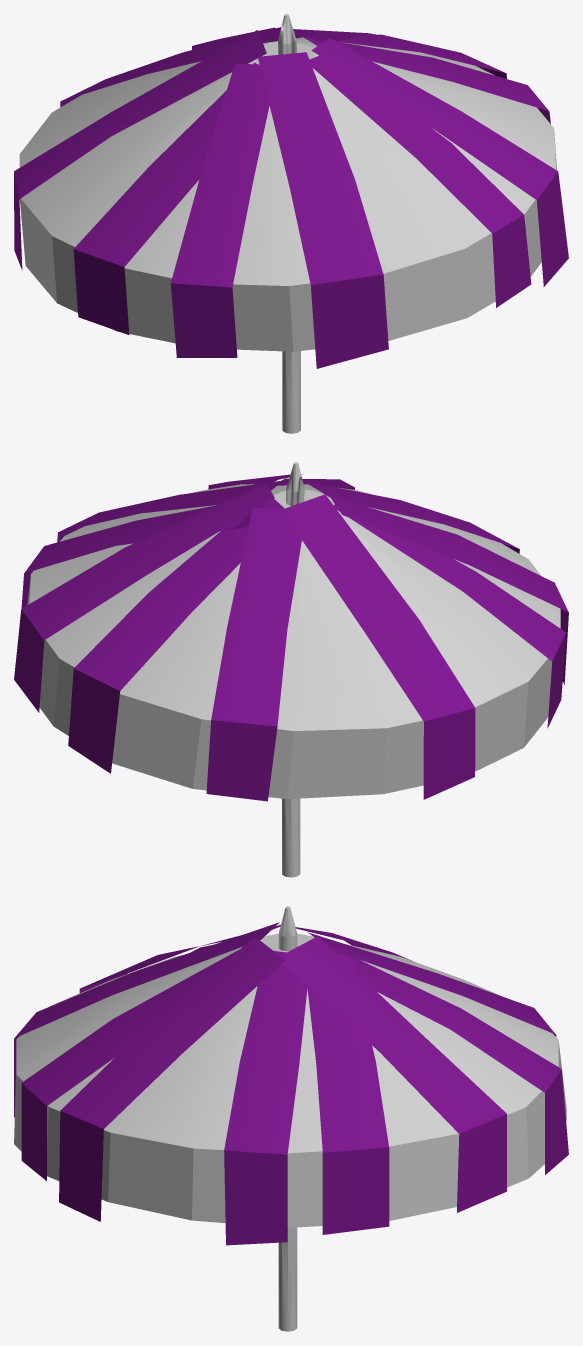
Rendered from sombrillanueva.fbx.
3 renders of one model, top to bottom at view 1: azimuth 30°, elevation 25°; view 2: azimuth 150°, elevation 25°; view 3: azimuth 270°, elevation 25°, orthographic.
Parts seen in each view (by area): view 1: Umbrella2_low, Object018, Object020, Object010, Object014, Object016, Object008, Object012, Stick2_low, Object006, Object, Object002; view 2: Umbrella2_low, Object006, Object008, Object004, Object002, Object010, Object020, Object, Object012, Object018, Stick2_low; view 3: Umbrella2_low, Object012, Object002, Object014, Object, Object016, Object004, Object018, Object006, Stick2_low, Object020.
Part boxes in pixels (left/top/right/bottom): Umbrella2_low: left=19, top=37, right=556, bottom=351; Object018: left=258, top=52, right=388, bottom=368; Object020: left=170, top=63, right=269, bottom=357; Object010: left=73, top=62, right=256, bottom=334; Object014: left=311, top=38, right=568, bottom=286; Object016: left=309, top=55, right=531, bottom=307; Object008: left=14, top=30, right=266, bottom=270; Object012: left=301, top=36, right=550, bottom=123; Stick2_low: left=278, top=14, right=300, bottom=433; Object006: left=60, top=27, right=281, bottom=107; Object: left=275, top=33, right=506, bottom=78; Object002: left=279, top=28, right=375, bottom=41; Umbrella2_low: left=27, top=484, right=560, bottom=799; Object006: left=206, top=507, right=301, bottom=801; Object008: left=281, top=494, right=475, bottom=799; Object004: left=68, top=499, right=284, bottom=773; Object002: left=14, top=483, right=274, bottom=712; Object010: left=334, top=504, right=565, bottom=728; Object020: left=331, top=498, right=568, bottom=684; Object: left=21, top=505, right=262, bottom=608; Object012: left=57, top=480, right=282, bottom=542; Object018: left=303, top=481, right=519, bottom=553; Stick2_low: left=282, top=462, right=304, bottom=877; Umbrella2_low: left=14, top=933, right=566, bottom=1227; Object012: left=224, top=951, right=307, bottom=1245; Object002: left=280, top=936, right=506, bottom=1212; Object014: left=59, top=937, right=285, bottom=1221; Object: left=307, top=954, right=389, bottom=1234; Object016: left=21, top=950, right=238, bottom=1180; Object004: left=332, top=949, right=568, bottom=1174; Object018: left=14, top=922, right=279, bottom=1117; Object006: left=307, top=932, right=556, bottom=1036; Stick2_low: left=278, top=906, right=297, bottom=1331; Object020: left=79, top=925, right=280, bottom=992.
Size of the model in its own units: 191 by 158 by 189.
